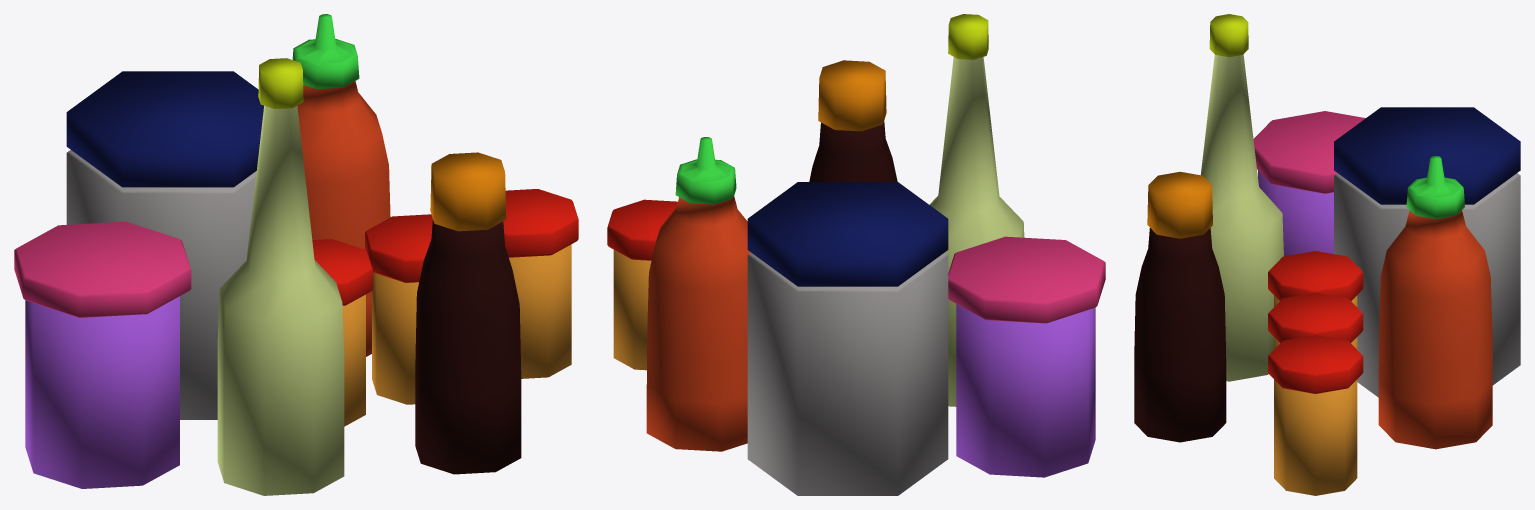
File: bottles.fbx
3 views of the same model, side by side, from view 1: azimuth 30°, elevation 25°; view 2: azimuth 150°, elevation 25°; view 3: azimuth 270°, elevation 25° (orthographic). The views are drawn at different scales.
Visible parts, largest first — view 1: Cylinder.006, Cylinder.007, Cylinder.005, Cylinder.009, Cylinder.008, Cylinder.010; view 2: Cylinder.005, Cylinder.006, Cylinder.010, Cylinder.007, Cylinder.009, Cylinder.008; view 3: Cylinder.005, Cylinder.010, Cylinder.009, Cylinder.008, Cylinder.007, Cylinder.006.
Boxes of the visible parts, left/top/right/bottom form: Cylinder.006: left=14, top=221, right=191, bottom=488; Cylinder.007: left=217, top=58, right=344, bottom=495; Cylinder.005: left=66, top=71, right=263, bottom=419; Cylinder.009: left=415, top=152, right=521, bottom=474; Cylinder.008: left=312, top=189, right=578, bottom=426; Cylinder.010: left=292, top=14, right=390, bottom=356; Cylinder.005: left=747, top=182, right=948, bottom=495; Cylinder.006: left=948, top=236, right=1105, bottom=477; Cylinder.010: left=646, top=137, right=750, bottom=451; Cylinder.007: left=929, top=14, right=1024, bottom=406; Cylinder.009: left=809, top=60, right=897, bottom=181; Cylinder.008: left=607, top=199, right=677, bottom=370; Cylinder.005: left=1334, top=107, right=1520, bottom=397; Cylinder.010: left=1378, top=156, right=1492, bottom=449; Cylinder.009: left=1134, top=171, right=1226, bottom=442; Cylinder.008: left=1268, top=251, right=1363, bottom=495; Cylinder.007: left=1200, top=14, right=1283, bottom=381; Cylinder.006: left=1253, top=111, right=1365, bottom=256.
Size of the model in its own units: 1124 by 794 by 826.
